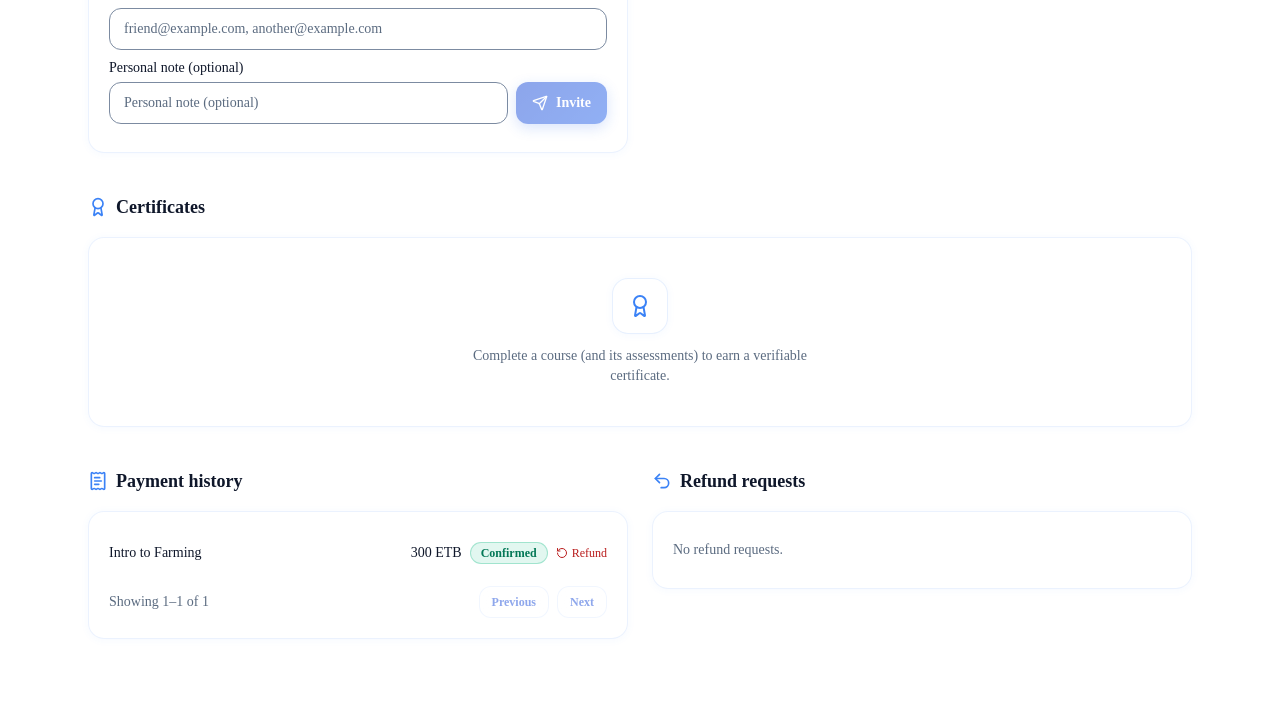
Learner dashboard refund › shows a refusal as an error
This screenshot has width=1280, height=719.
(page scrolled)
Click the button "Refund" at (581,553), box top-left (556, 545), bottom-right (607, 561)
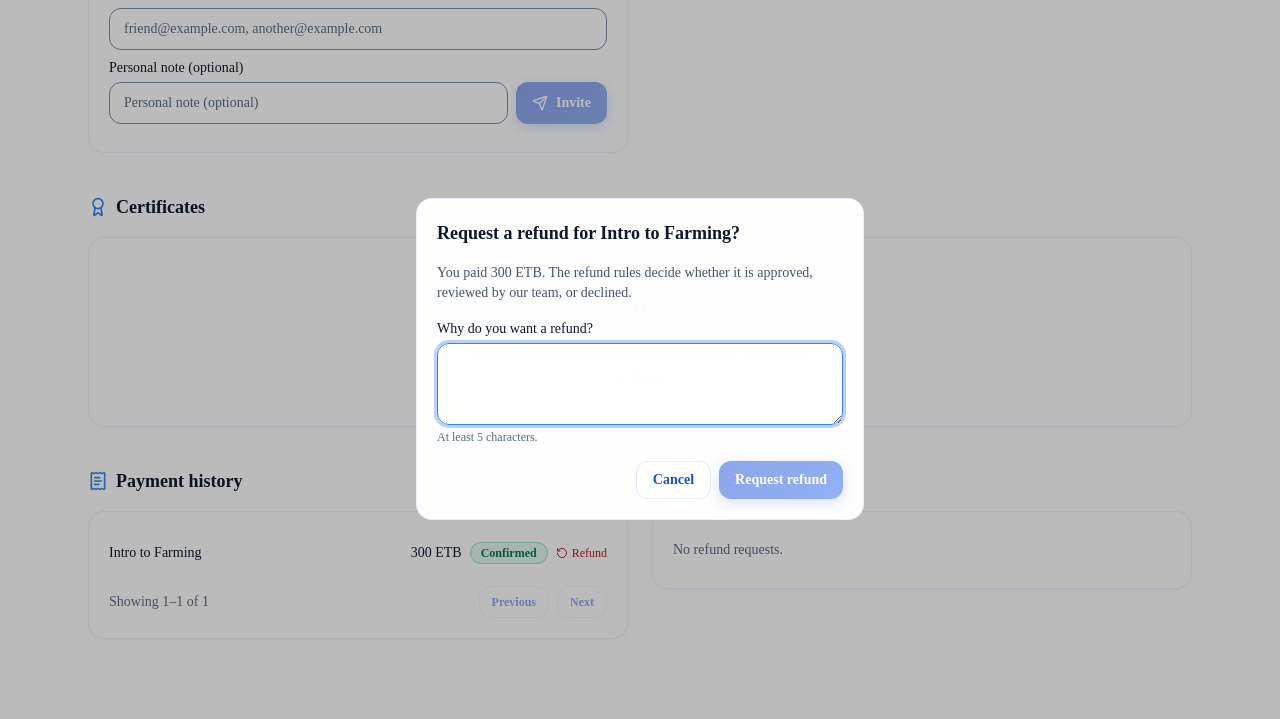
Type "Wrong course" into the text box labelled "Why do you want a refund?" at (640,384), box top-left (437, 343), bottom-right (843, 425)
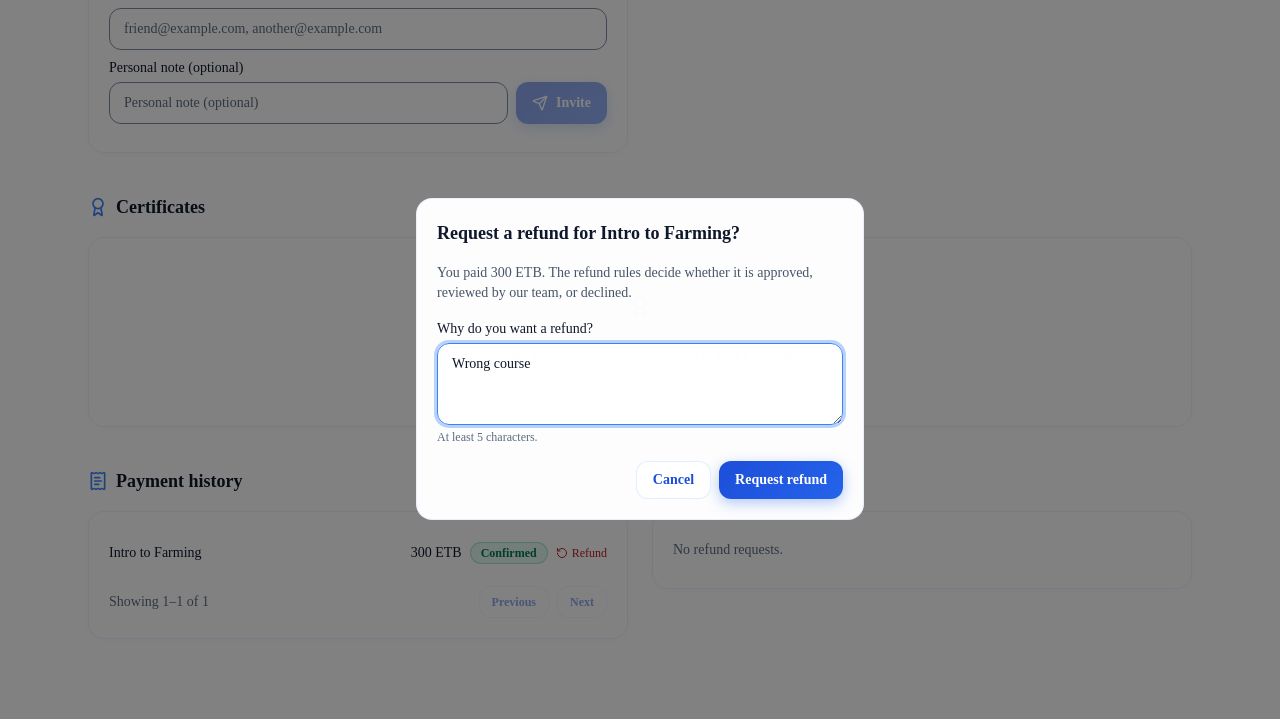
Click the button "Request refund" at (781,480), box top-left (719, 461), bottom-right (843, 499)
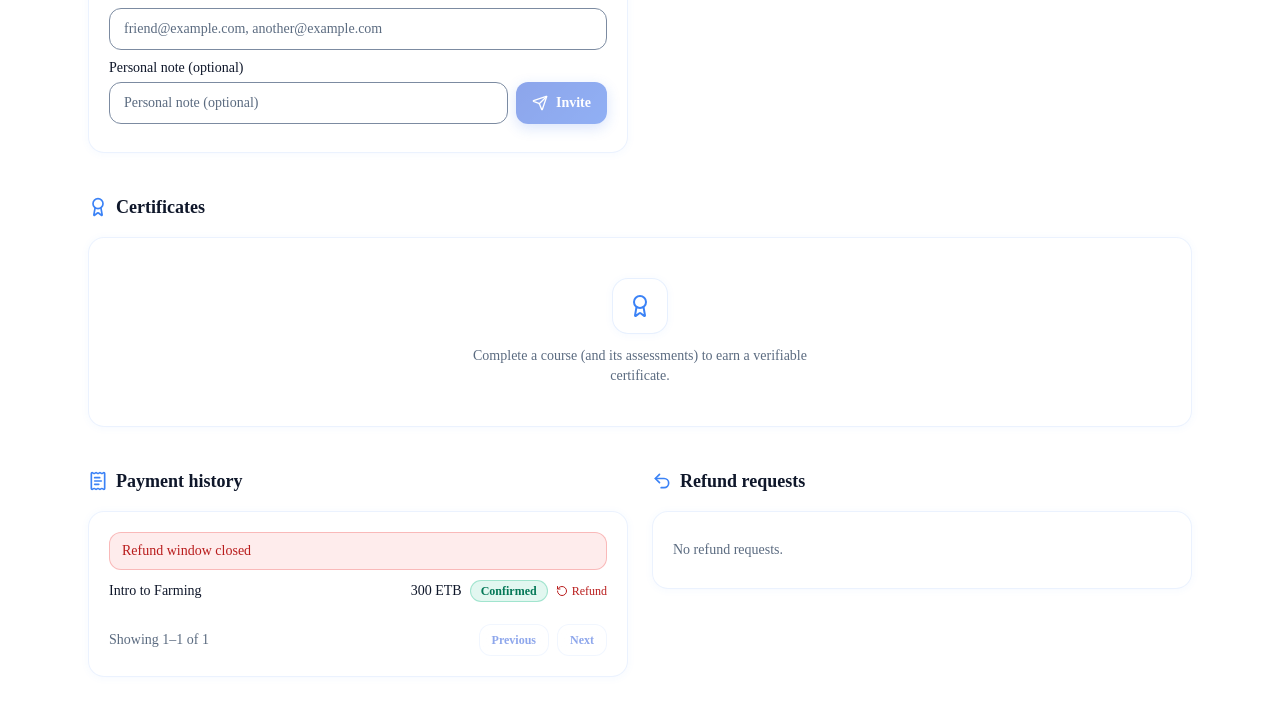
Check: the text "Refund window closed" is shown, box top-left (109, 532), bottom-right (607, 570)
